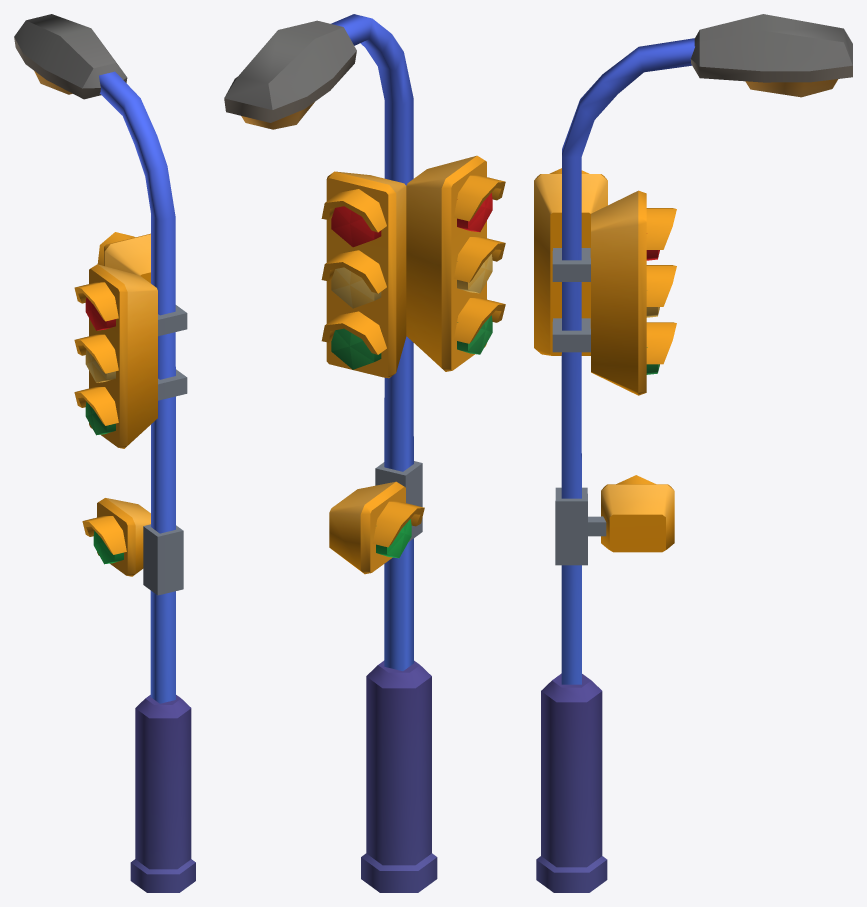
Rendered from Lights_6_B.glb.
3 views of the same model, side by side, from view 1: azimuth 30°, elevation 25°; view 2: azimuth 150°, elevation 25°; view 3: azimuth 270°, elevation 25° (orthographic). The views are drawn at different scales.
Visible parts, largest first — view 1: Lights_6_B; view 2: Lights_6_B; view 3: Lights_6_B.
Boxes of the visible parts, box(x1,y1,x2,y2) form: Lights_6_B: box(14, 14, 195, 892); Lights_6_B: box(224, 14, 505, 892); Lights_6_B: box(534, 14, 852, 892).
Bounding box in the file's own units: 0.6476 × 4.23 × 1.43.
2 materials, 2 textured.
